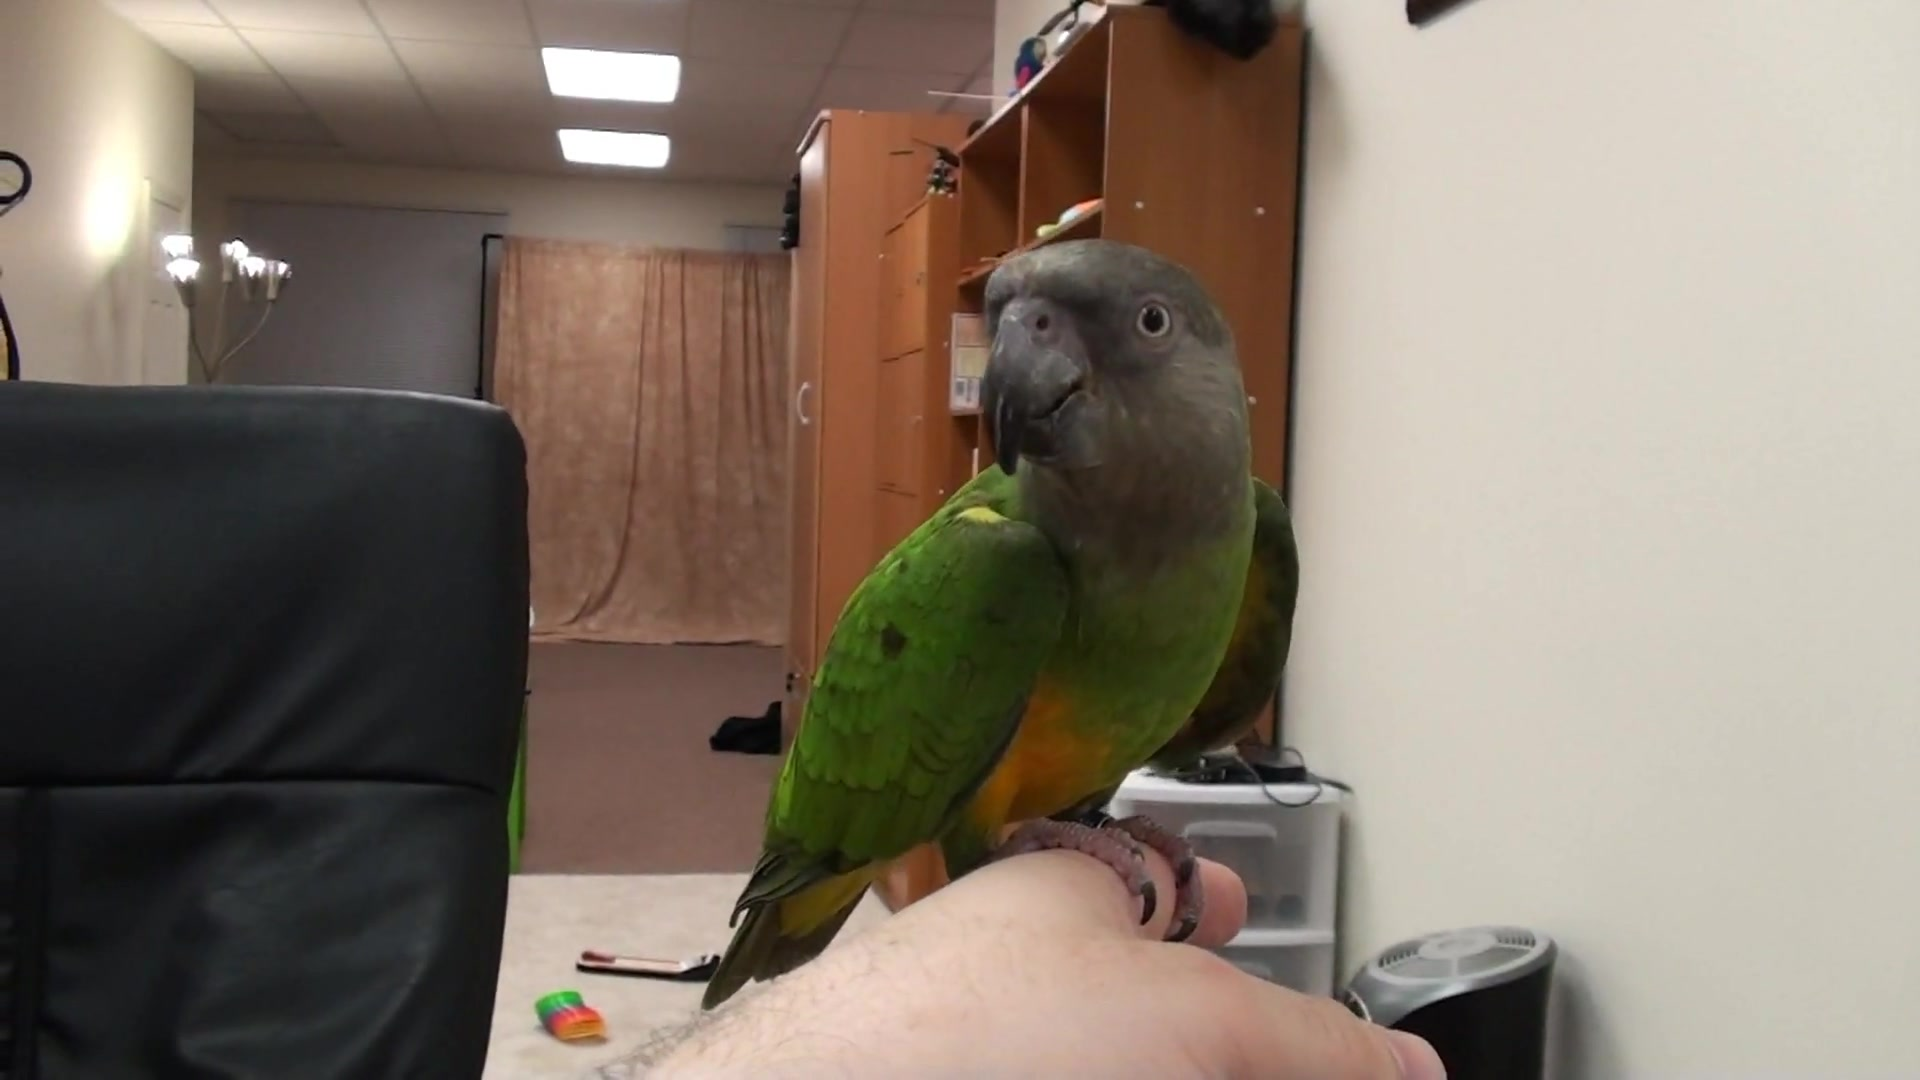bird: (700, 237, 1304, 1015)
